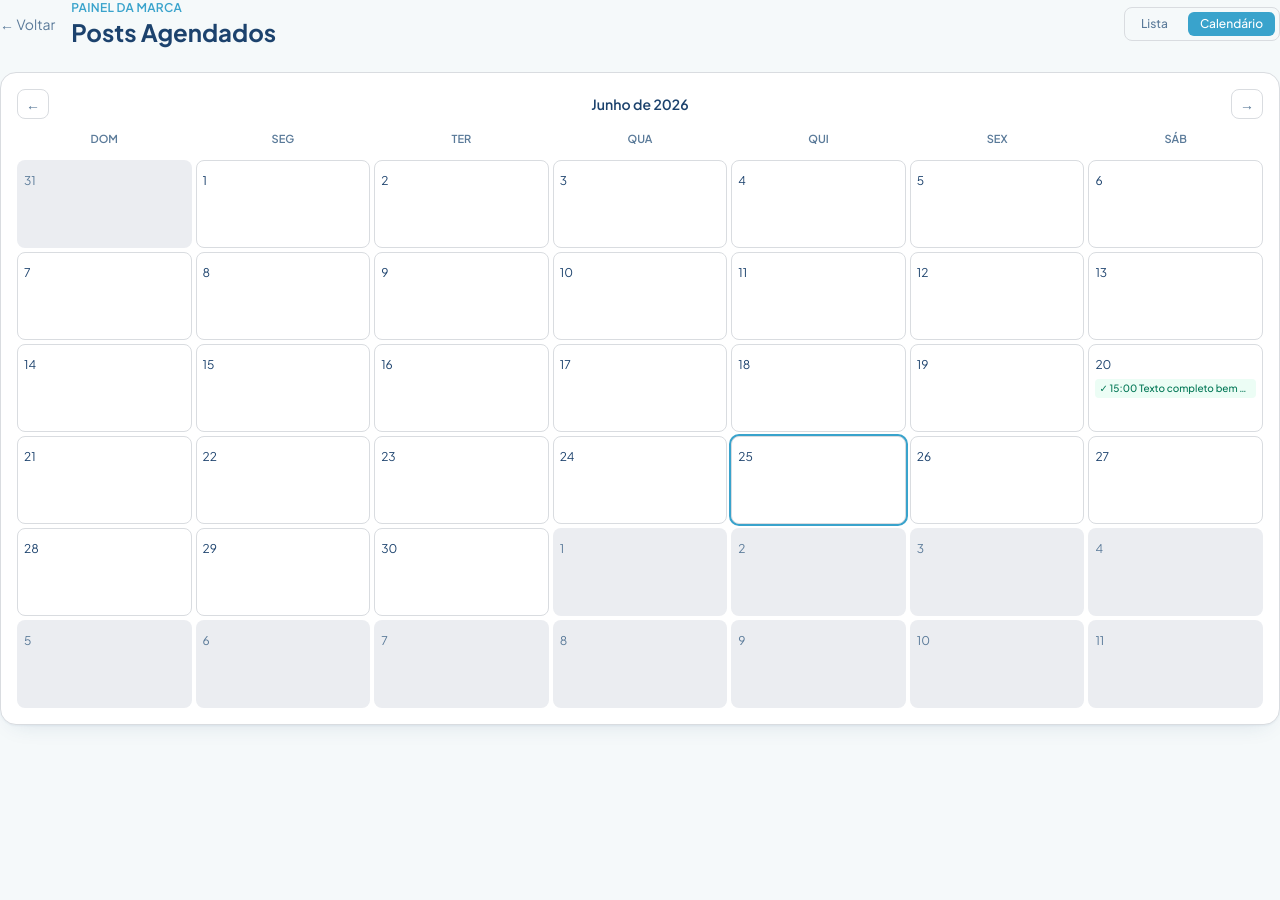
Test case: ScheduledPostsPage › posts publicados › abre o post completo ao clicar em "Ver post completo", com o texto na íntegra
What coordinates should you click on to do the following:
click the button "Lista"
I would click on:
 (1154, 24)
Its box is [1129,12,1180,36].
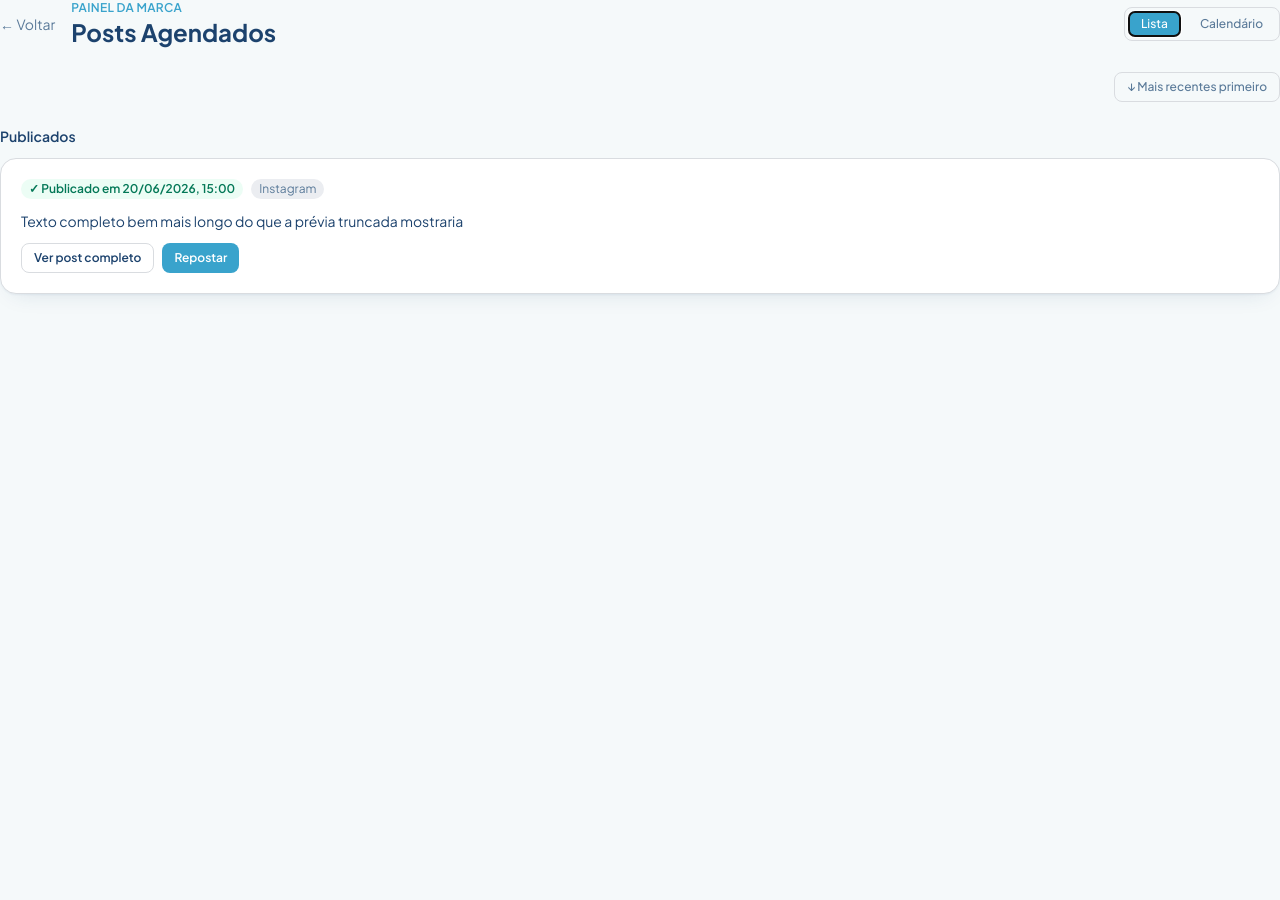
Expected: the text "Texto completo bem mais longo" is shown, [21,212,463,230]
What coordinates should you click on to do the following:
click the button "Ver post completo"
I would click on:
 (88, 258)
Its box is [21,243,154,273].
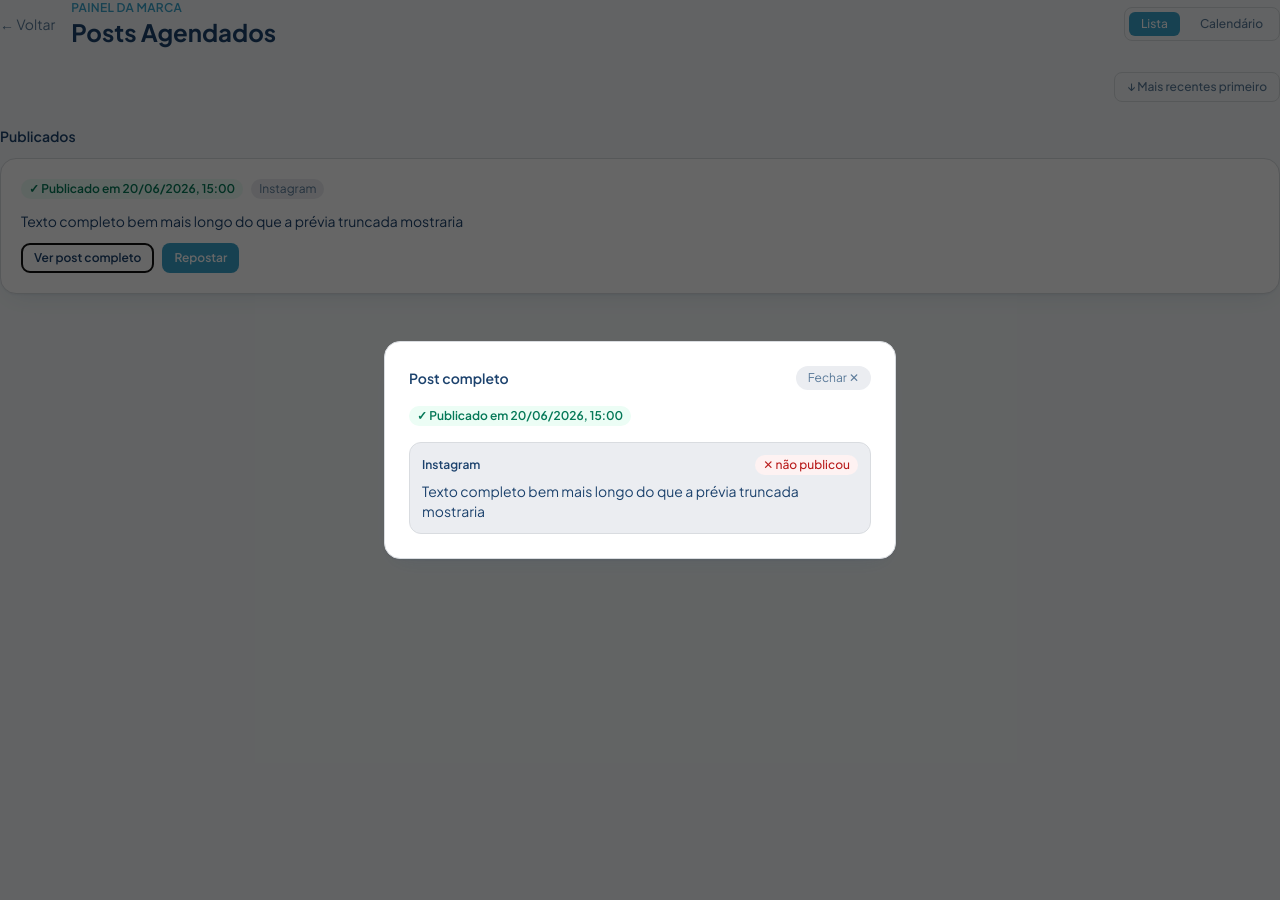
Result: the text "Texto completo bem mais longo do que a prévia truncada mostraria" is shown at [422,481,858,521]
